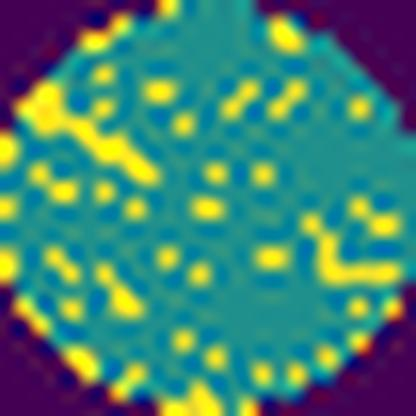Scratch: (16, 83, 158, 186)
